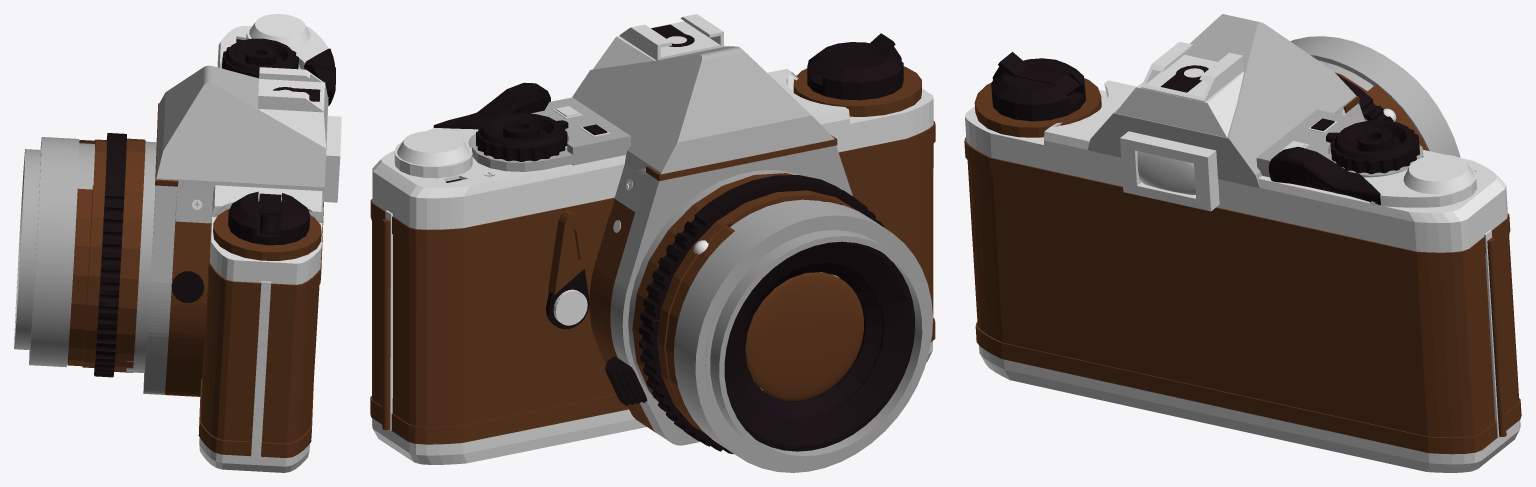
The model's file is Camera.glb.
The picture shows the model from 3 angles, left to right: view 1: azimuth 30°, elevation 25°; view 2: azimuth 150°, elevation 25°; view 3: azimuth 270°, elevation 25°; orthographic projection. The views are drawn at different scales.
Parts seen in each view (by area): view 1: Body, Grip, Controlls, Top and Bottom, Zoom Ring; view 2: Body, Grip, Top and Bottom, Mount, Controlls, Lense cover, Zoom Ring, Hook, Hook Support; view 3: Grip, Body, Top and Bottom, Controlls, Zoom Ring.
Boxes of the visible parts, x1=… form: Body: x1=14, y1=14, x2=328, y2=394; Grip: x1=155, y1=103, x2=323, y2=457; Controlls: x1=171, y1=38, x2=341, y2=302; Top and Bottom: x1=199, y1=26, x2=327, y2=472; Zoom Ring: x1=94, y1=133, x2=126, y2=377; Body: x1=394, y1=14, x2=932, y2=472; Grip: x1=370, y1=121, x2=935, y2=444; Top and Bottom: x1=372, y1=69, x2=933, y2=464; Mount: x1=724, y1=241, x2=915, y2=451; Controlls: x1=433, y1=24, x2=903, y2=254; Lense cover: x1=745, y1=272, x2=863, y2=401; Zoom Ring: x1=639, y1=175, x2=883, y2=454; Hook: x1=546, y1=210, x2=589, y2=329; Hook Support: x1=553, y1=289, x2=587, y2=325; Grip: x1=964, y1=96, x2=1521, y2=454; Body: x1=974, y1=14, x2=1477, y2=207; Top and Bottom: x1=965, y1=80, x2=1520, y2=472; Controlls: x1=991, y1=52, x2=1419, y2=211; Zoom Ring: x1=1336, y1=74, x2=1393, y2=121.
Bounding box in the file's own units: 1.08 × 0.8365 × 1.17.
